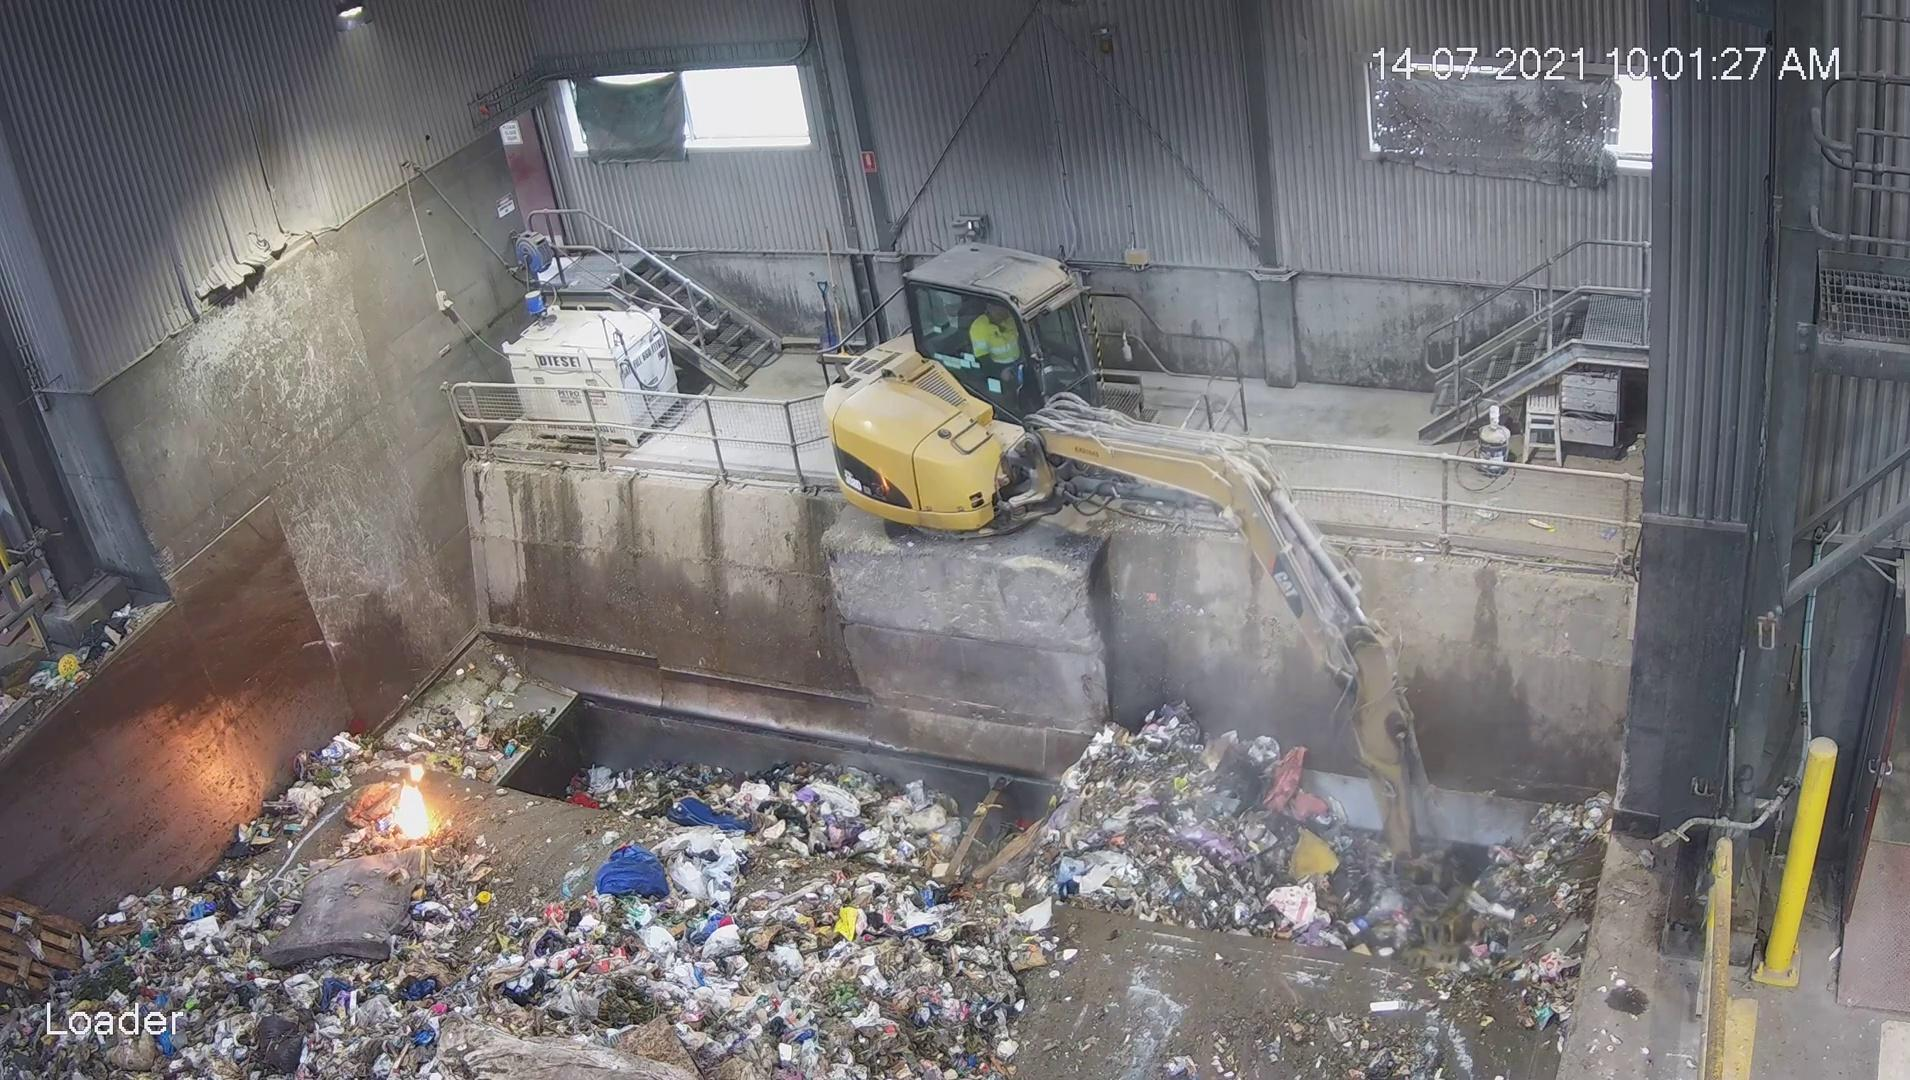fire: (295, 692, 517, 881)
